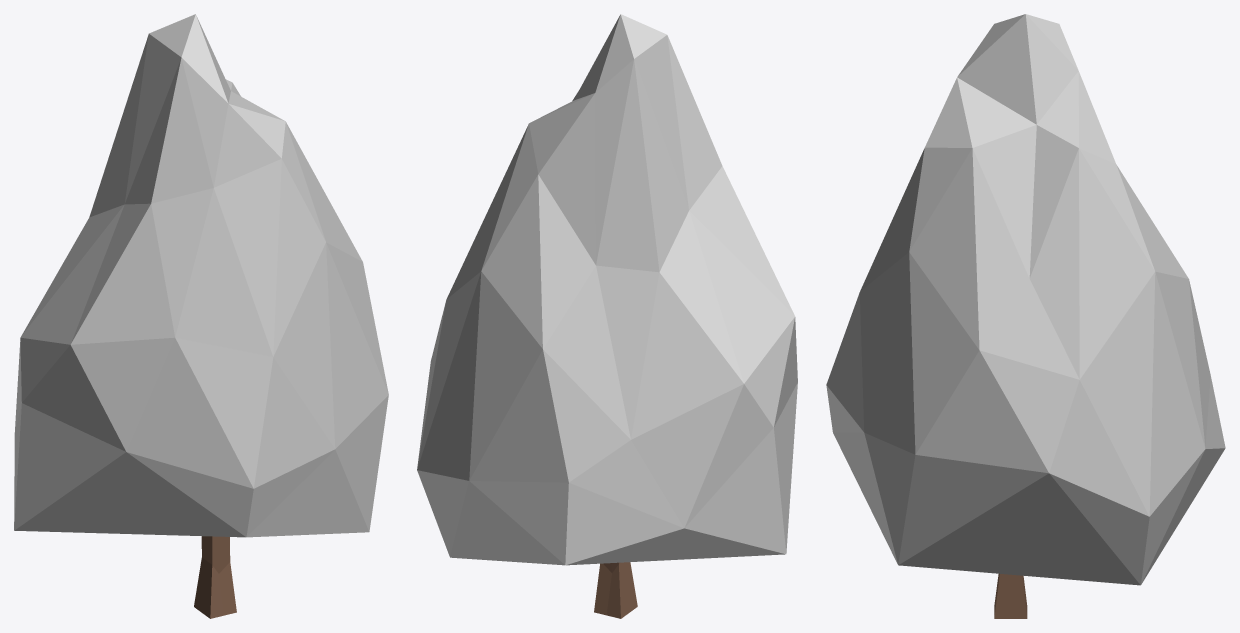
The model's file is Tree_11_White.fbx.
3 renders of one model, left to right at view 1: azimuth 30°, elevation 25°; view 2: azimuth 150°, elevation 25°; view 3: azimuth 270°, elevation 25°, orthographic.
Visible parts, largest first — view 1: Tree_11_White; view 2: Tree_11_White; view 3: Tree_11_White.
Boxes of the visible parts, left/top/right/bottom form: Tree_11_White: left=14, top=14, right=388, bottom=618; Tree_11_White: left=417, top=14, right=797, bottom=618; Tree_11_White: left=826, top=14, right=1225, bottom=618.
Size of the model in its own units: 483 by 790 by 483.
